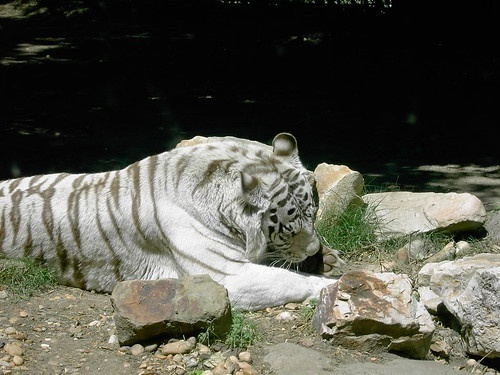tigre: (1, 129, 345, 316)
